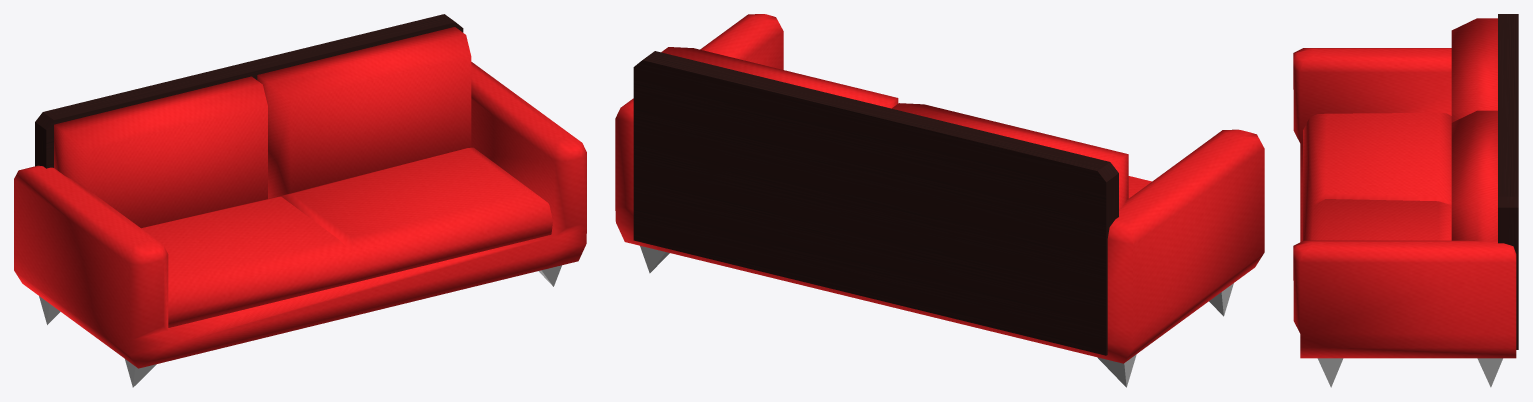
Rendered from Loveseat_02.FBX.
3 renders of one model, left to right at view 1: azimuth 30°, elevation 25°; view 2: azimuth 150°, elevation 25°; view 3: azimuth 270°, elevation 25°, orthographic. The views are drawn at different scales.
Visible parts, largest first — view 1: Loveseat; view 2: Loveseat; view 3: Loveseat.
Boxes of the visible parts, x1,y1,x2,y2 form: Loveseat: [14, 14, 586, 387]; Loveseat: [615, 14, 1264, 387]; Loveseat: [1293, 14, 1518, 387].
Size of the model in its own units: 372 by 157 by 171.
